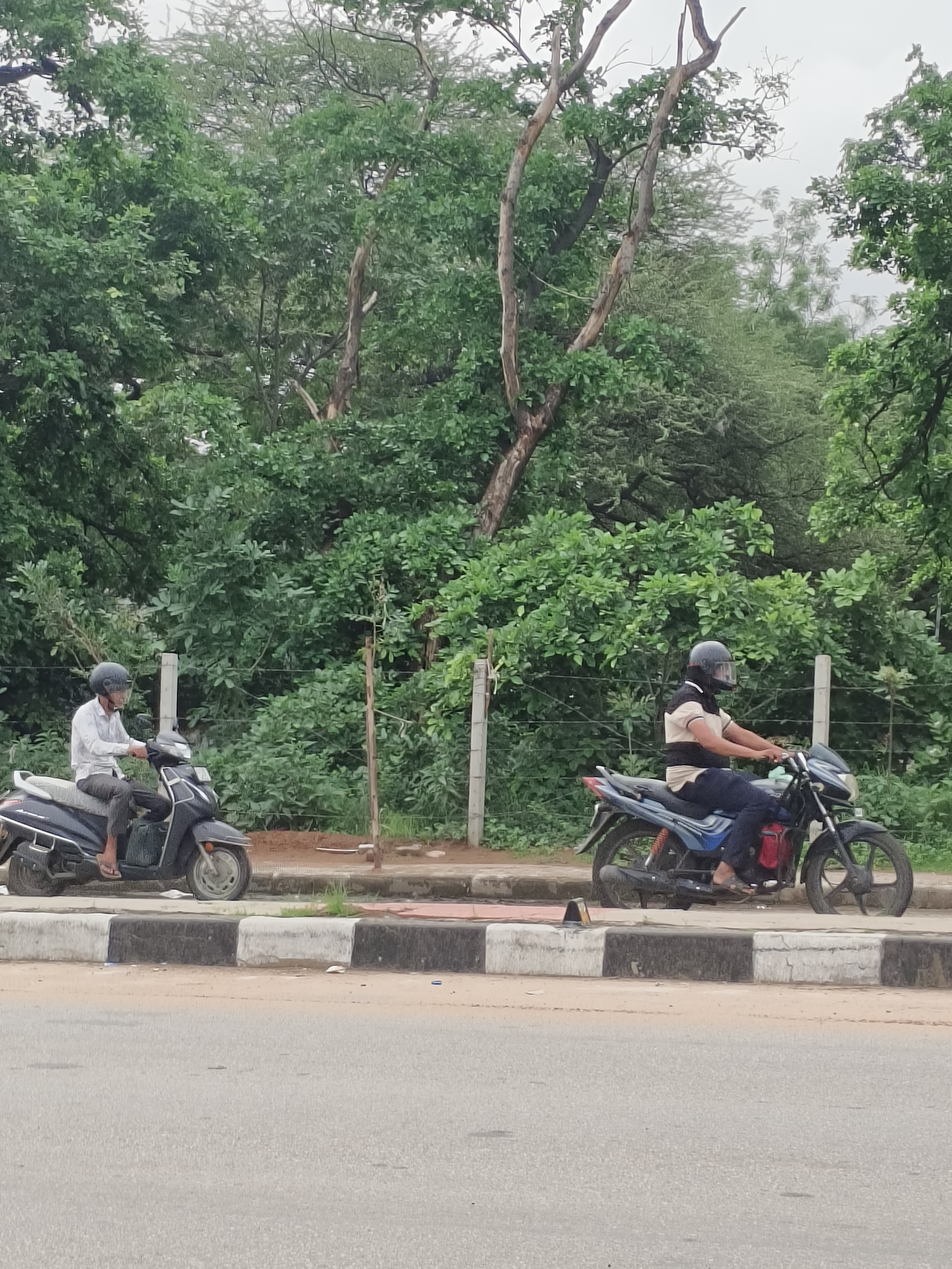BikeWithRider: (564, 631, 922, 925), (0, 656, 264, 912)
Helmet: (675, 631, 745, 702), (81, 656, 140, 715)
